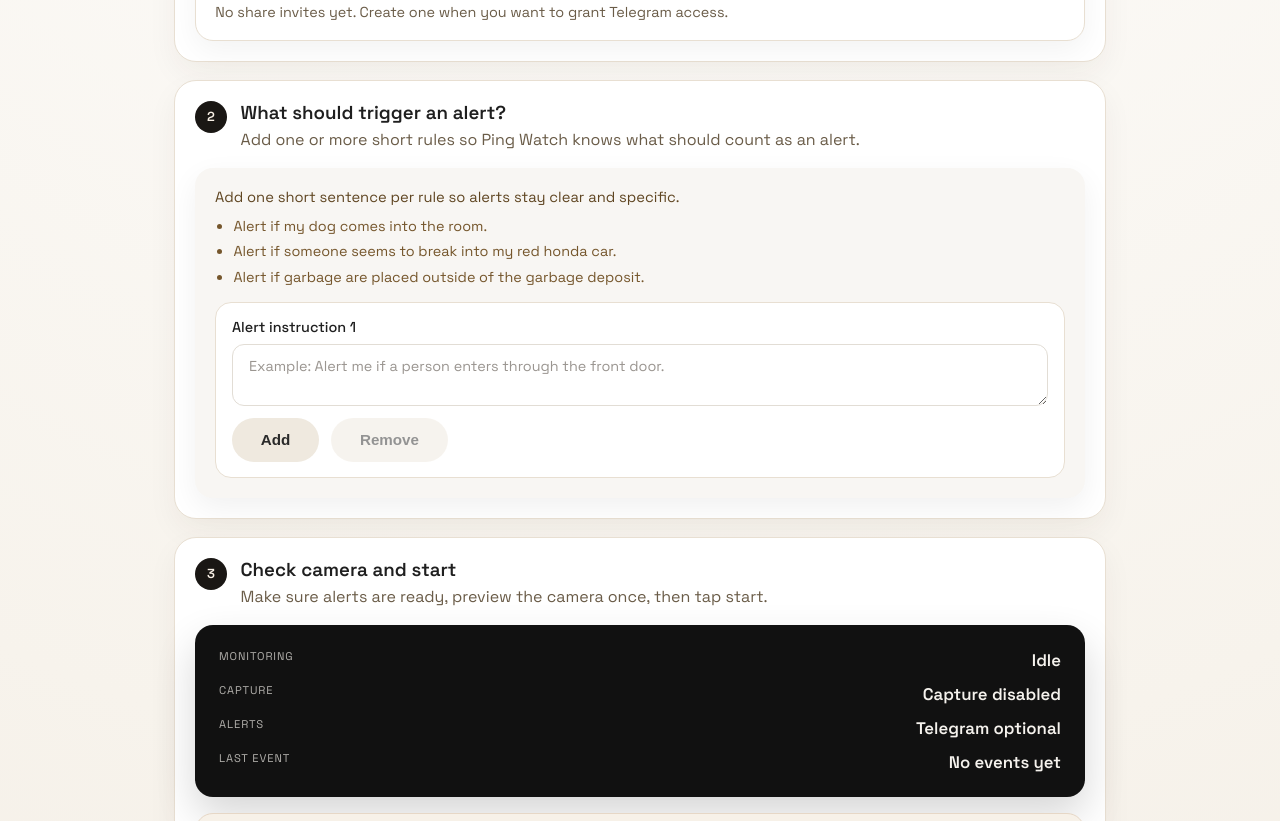
App › starts and stops a session via the API
This screenshot has width=1280, height=821.
(page scrolled)
Type "Alert if a person enters the office." into the text box labelled "Alert instruction 1" at (640, 375), box [232,344,1048,406]
(page scrolled)
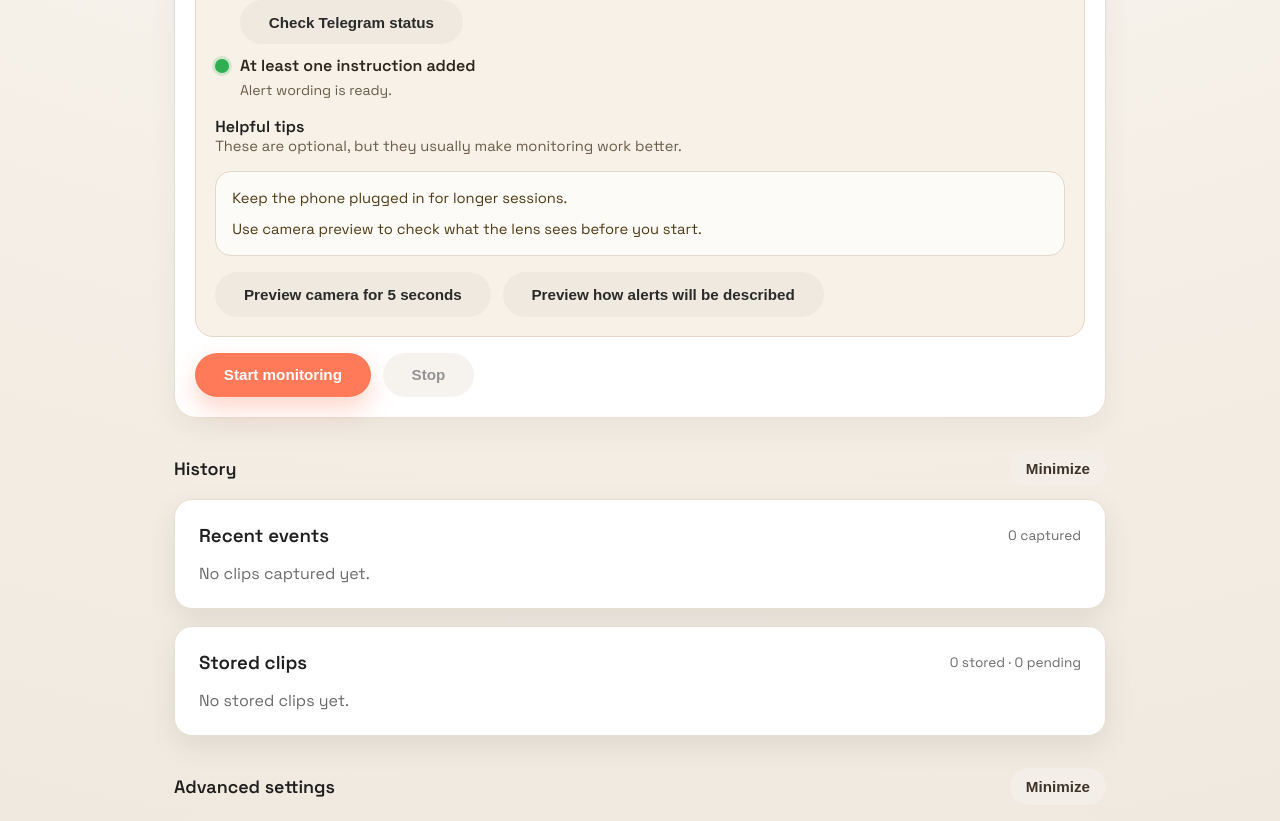
Click the button "Start monitoring" at (283, 375), box [195,353,371,397]
(page scrolled)
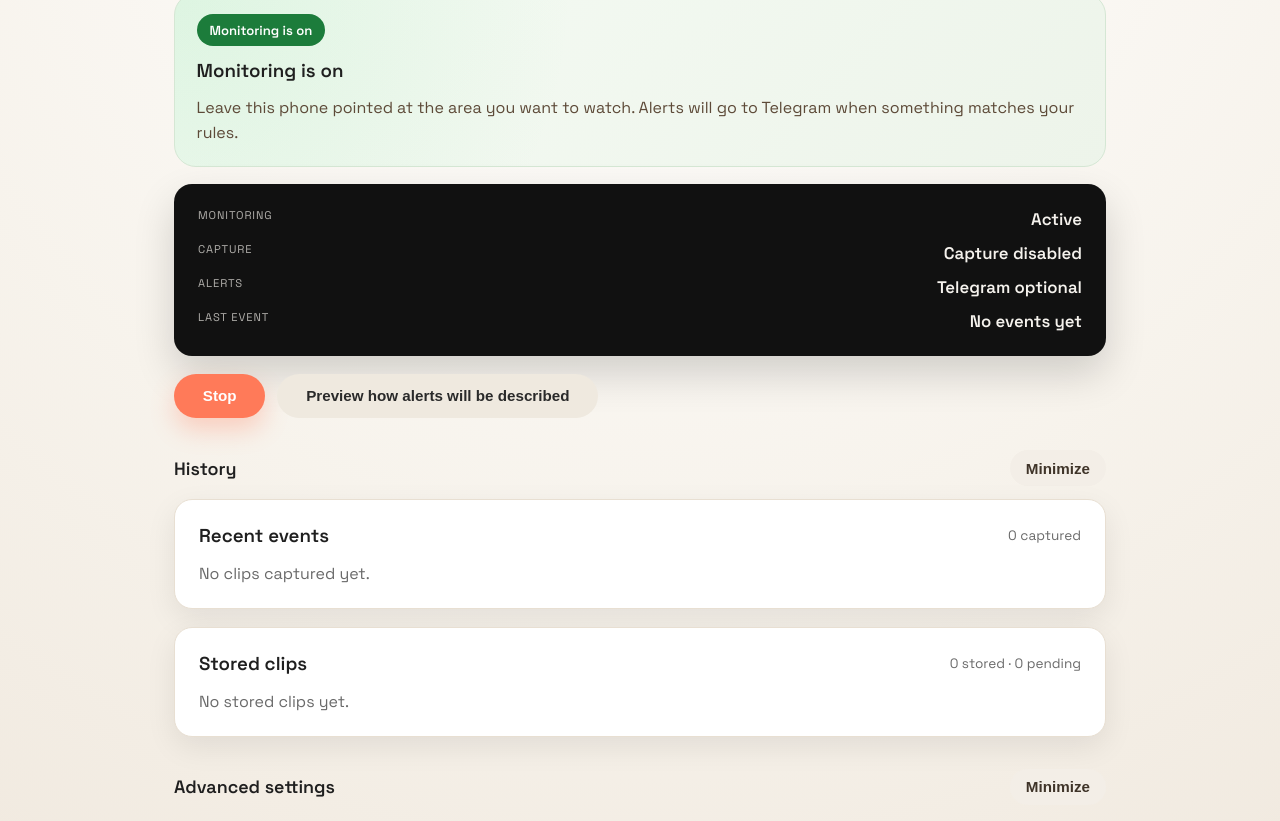
Now the heading "Monitoring is on" is shown, box [197,59,343,82]
Click the button "Stop" at (220, 396), box [174,374,265,418]
(page scrolled)
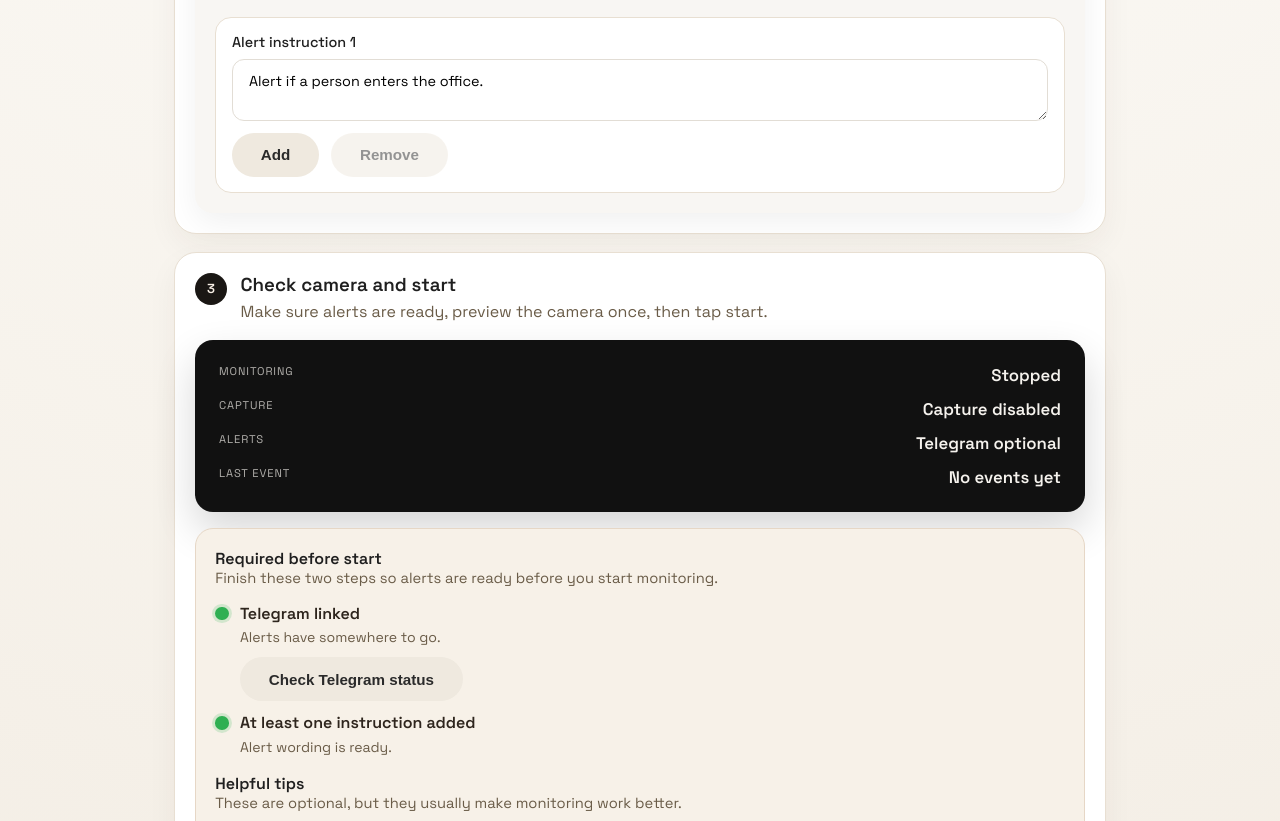
Now the text "Stopped" is shown, box [991,364,1061,386]
